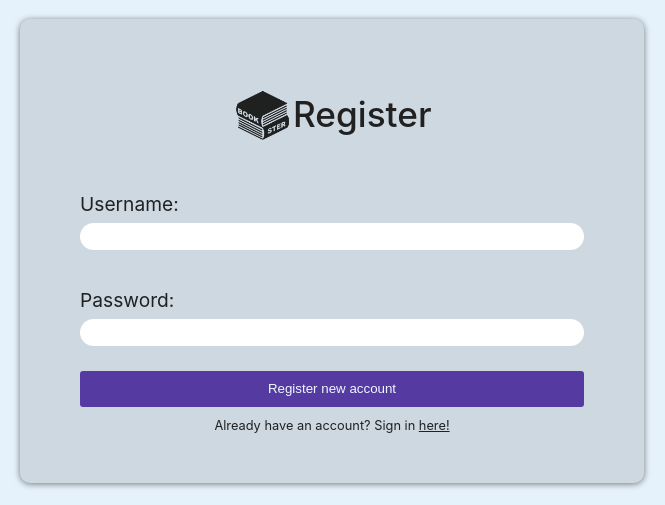
Username and password can't be under 4 characters
The image size is (665, 505).
Type "abc" into the field labelled "Username:" at (332, 237), box [80, 223, 584, 250]
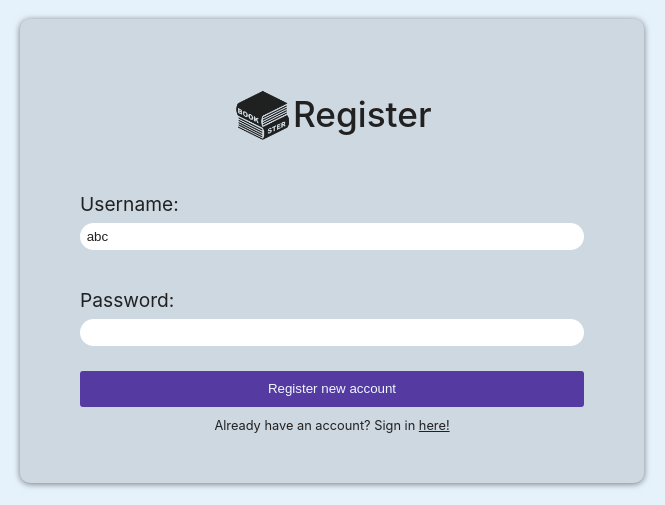
Type "123" into the password field labelled "Password:" at (332, 333), box [80, 320, 584, 346]
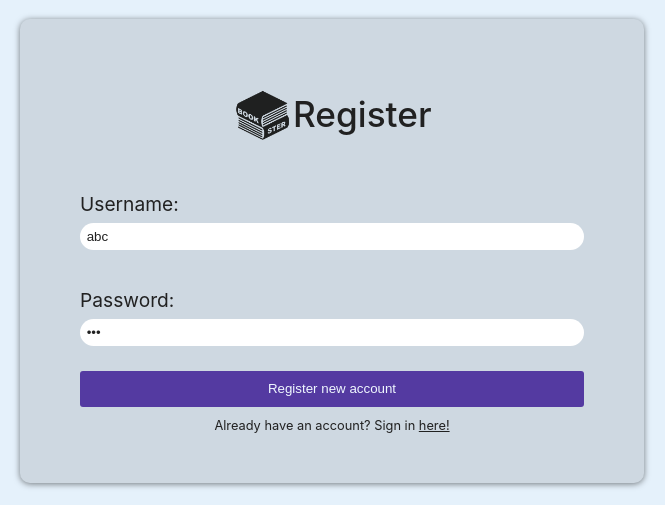
Click the button "Register new account" at (332, 389), box [80, 371, 584, 407]
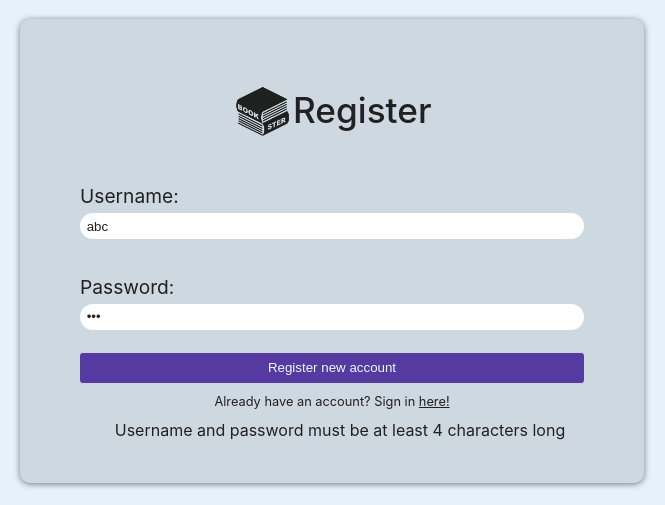
Check: the text "Username and password must be at least 4 characters long" is shown, box [115, 422, 565, 451]
